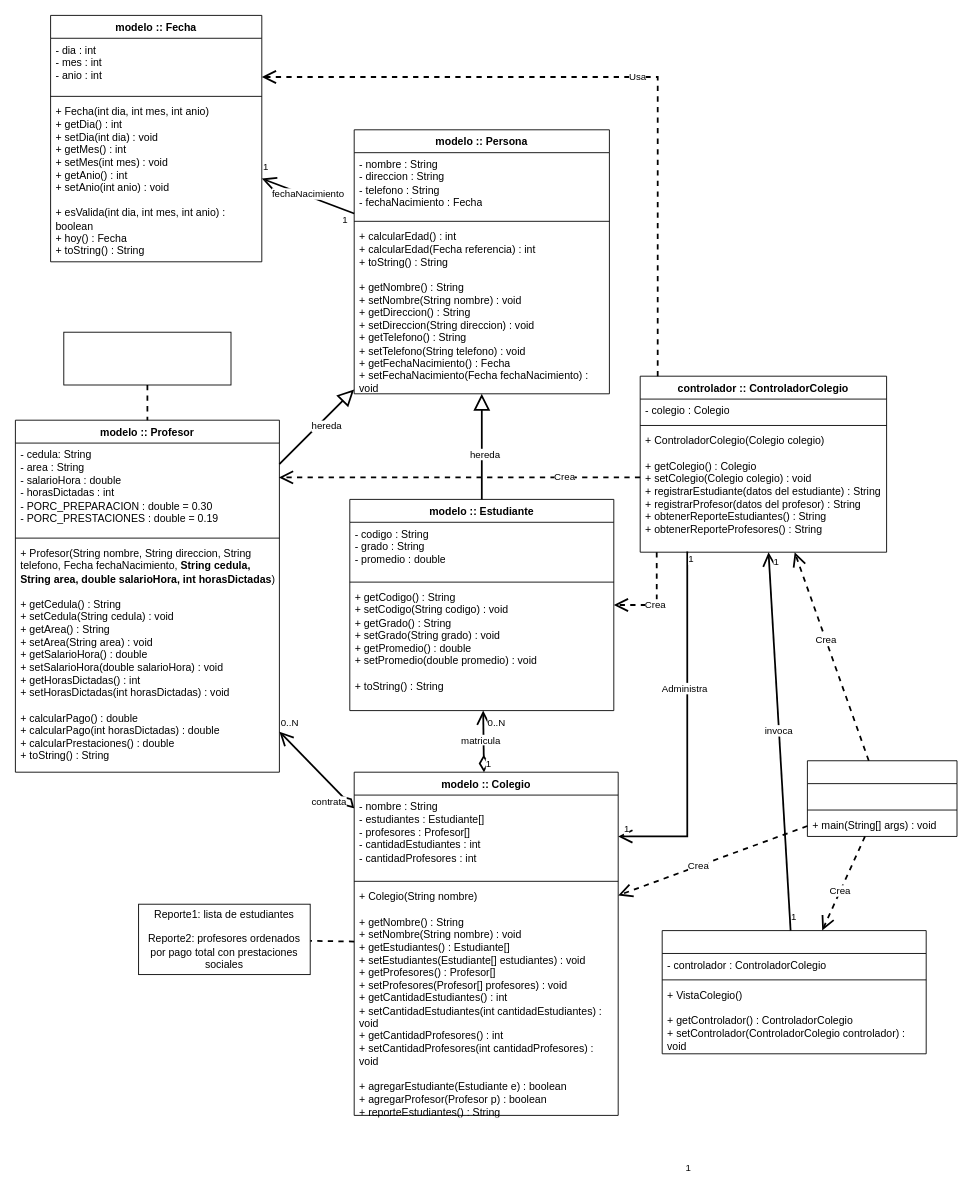
Image size: 972x1191. Some labels were removed from this diagram. Here are the shapes that lost their labels. From the top down, the box of each, then its label:
(63, 331, 231, 385): pago = (salarioHora x horas x 1.30) prestaciones = (pago x 0.19)
(807, 760, 957, 836): main : GestionColegioPoo
(661, 930, 926, 1054): vista :: VistaColegio
